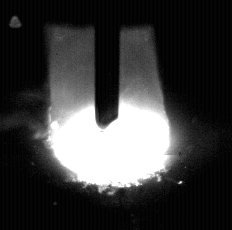arame: (95, 0, 121, 128)
poca: (49, 0, 171, 230)
